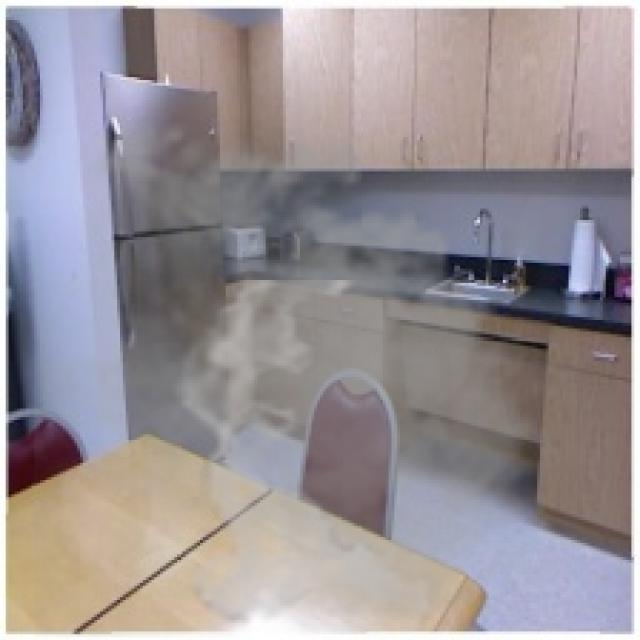smoke: (34, 106, 569, 637)
